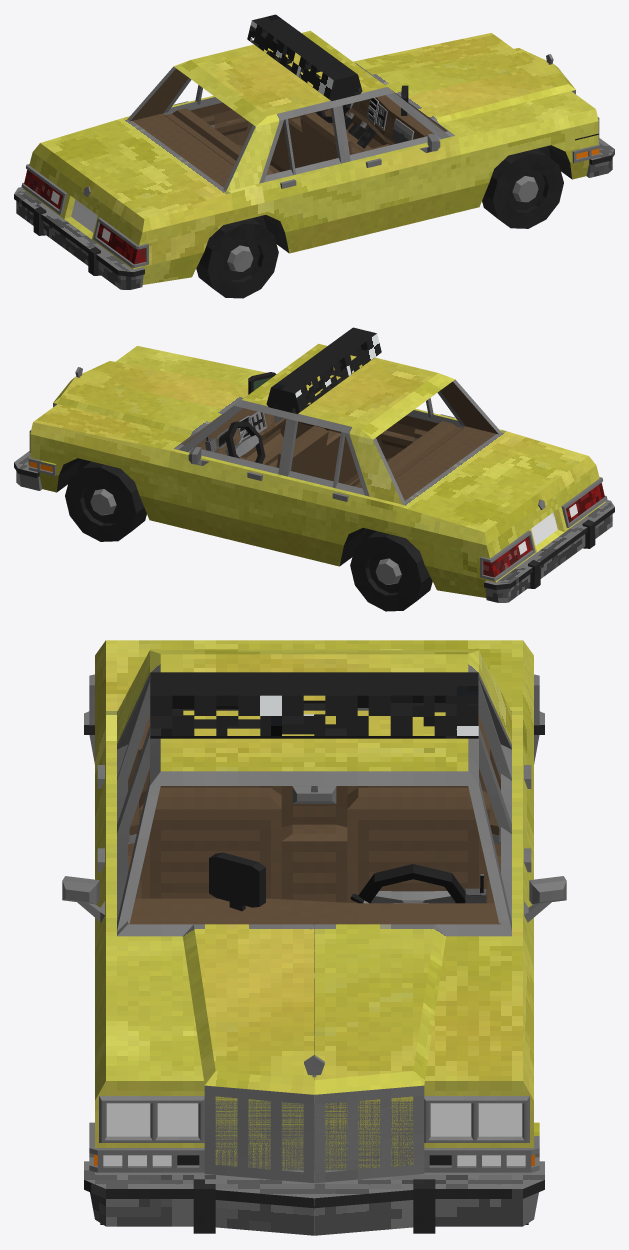
File: taxi.glb
The picture shows the model from 3 angles, top to bottom: view 1: azimuth 30°, elevation 25°; view 2: azimuth 150°, elevation 25°; view 3: azimuth 270°, elevation 25°; orthographic projection. The views are drawn at different scales.
Parts seen in each view (by area): view 1: car; view 2: car, steering wheel; view 3: car, steering wheel, GPS.
Part boxes in pixels (x1,y1,x2,y2): car: [14, 14, 614, 298]; car: [14, 327, 614, 611]; steering wheel: [225, 421, 265, 463]; car: [62, 640, 566, 1235]; steering wheel: [358, 864, 465, 903]; GPS: [209, 852, 265, 911].
Bounding box in the file's own units: 6.69 × 2.31 × 2.87.
1 material, 1 textured.
